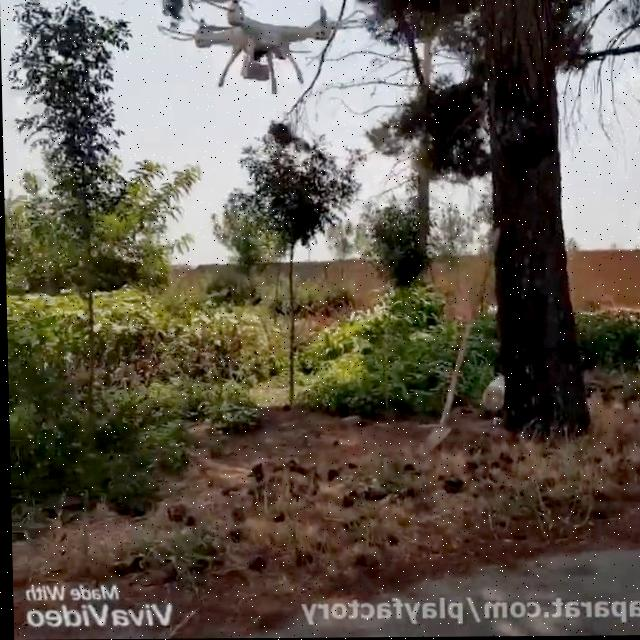drone: (153, 0, 373, 95)
